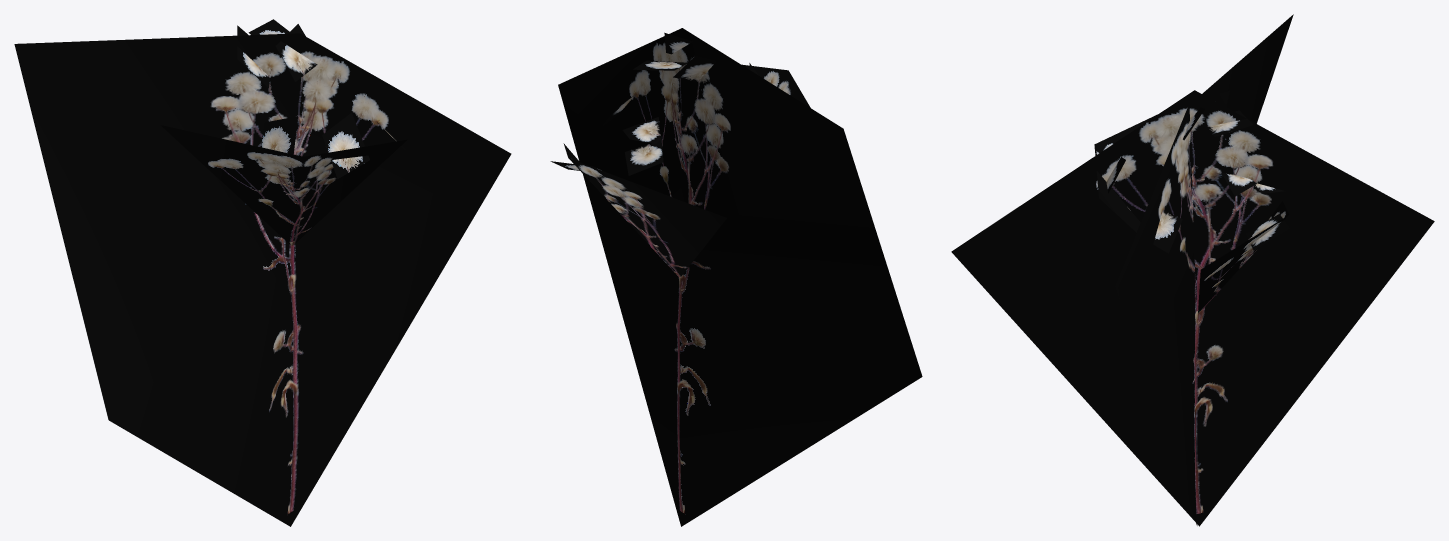
File: Beach_Plant.fbx
3 views of the same model, side by side, from view 1: azimuth 30°, elevation 25°; view 2: azimuth 150°, elevation 25°; view 3: azimuth 270°, elevation 25° (orthographic). The views are drawn at different scales.
Parts seen in each view (by area): view 1: beach_plant; view 2: beach_plant; view 3: beach_plant.
Part boxes in pixels (x1=…): beach_plant: x1=14, y1=19, x2=511, y2=526; beach_plant: x1=550, y1=28, x2=922, y2=526; beach_plant: x1=951, y1=14, x2=1434, y2=526.
Size of the model in its own units: 0.8625 by 1.08 by 1.08.
